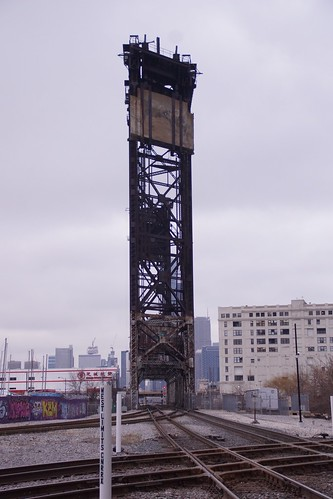building: (222, 297, 333, 397), (1, 351, 114, 396)
graffiti: (9, 396, 88, 425)
sky: (4, 1, 333, 335)
train track: (23, 428, 333, 499)
